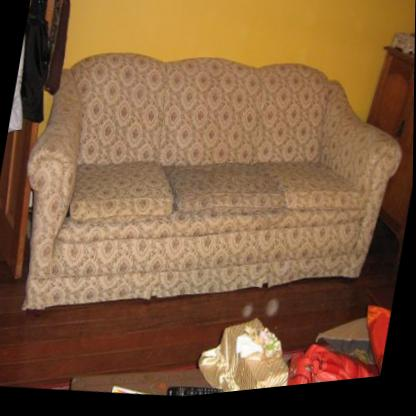Sofa: (0, 17, 415, 377)
